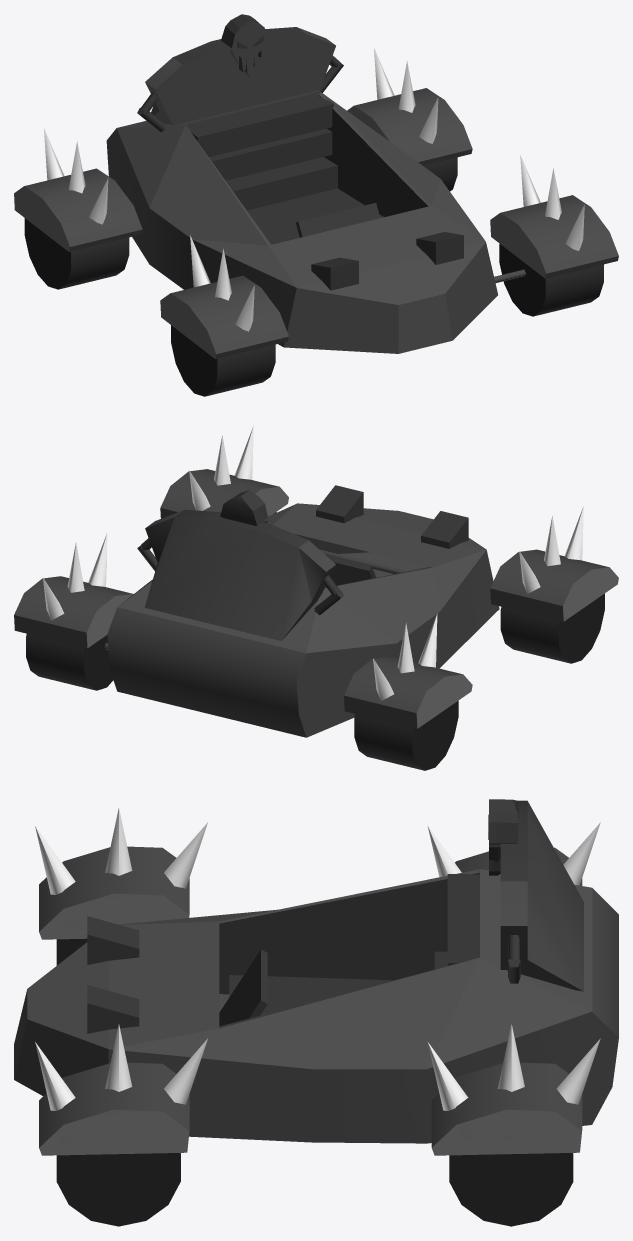
The model's file is enemy2car.FBX.
3 renders of one model, top to bottom at view 1: azimuth 30°, elevation 25°; view 2: azimuth 150°, elevation 25°; view 3: azimuth 270°, elevation 25°, orthographic. The views are drawn at different scales.
Parts seen in each view (by area): view 1: Box001, Box006, Box013, Box012, Box009, Box008, Box002, Cylinder004, Cylinder012, Cylinder013, Box004, Box003 (+6 smaller); view 2: Box001, Box006, Box012, Box009, Box008, Cylinder004, Cylinder012, Cylinder005, Box013, Box010, Box014, Line003 (+9 smaller); view 3: Box001, Box006, Box008, Box013, Box012, Cylinder005, Cylinder013, Box002, Box005, Box007, Box014, Box010 (+13 smaller).
Part boxes in pixels (left/top/right/bottom): Box001: left=106, top=90, right=497, bottom=353; Box006: left=145, top=27, right=335, bottom=125; Box013: left=490, top=195, right=618, bottom=278; Box012: left=160, top=275, right=288, bottom=358; Box009: left=14, top=168, right=142, bottom=251; Box008: left=347, top=88, right=472, bottom=165; Box002: left=186, top=94, right=333, bottom=157; Cylinder004: left=24, top=218, right=129, bottom=289; Cylinder012: left=171, top=325, right=275, bottom=396; Cylinder013: left=499, top=243, right=603, bottom=316; Box004: left=226, top=157, right=337, bottom=210; Box003: left=209, top=128, right=332, bottom=180; Box001: left=107, top=503, right=499, bottom=737; Box006: left=144, top=509, right=335, bottom=640; Box012: left=490, top=549, right=618, bottom=621; Box009: left=344, top=656, right=472, bottom=728; Box008: left=14, top=576, right=133, bottom=648; Cylinder004: left=354, top=700, right=458, bottom=770; Cylinder012: left=500, top=593, right=604, bottom=663; Cylinder005: left=26, top=633, right=113, bottom=690; Box013: left=160, top=469, right=288, bottom=518; Box010: left=316, top=485, right=363, bottom=523; Box014: left=421, top=511, right=468, bottom=548; Line003: left=220, top=490, right=267, bottom=525; Box001: left=14, top=869, right=618, bottom=1143; Box006: left=500, top=800, right=583, bottom=991; Box008: left=431, top=1062, right=582, bottom=1155; Box013: left=39, top=1062, right=189, bottom=1155; Box012: left=39, top=846, right=189, bottom=939; Cylinder005: left=449, top=1153, right=573, bottom=1226; Cylinder013: left=56, top=1153, right=180, bottom=1226; Box002: left=447, top=874, right=479, bottom=965; Box005: left=229, top=975, right=392, bottom=1015; Box007: left=219, top=949, right=267, bottom=1026; Box014: left=87, top=916, right=139, bottom=964; Box010: left=87, top=985, right=139, bottom=1033.
Size of the model in its own units: 183 by 97.54 by 178.
